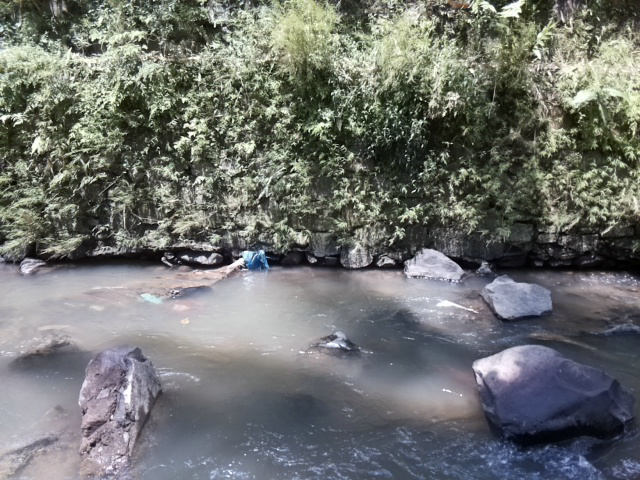Sampah_Plastik: (242, 247, 270, 271)
